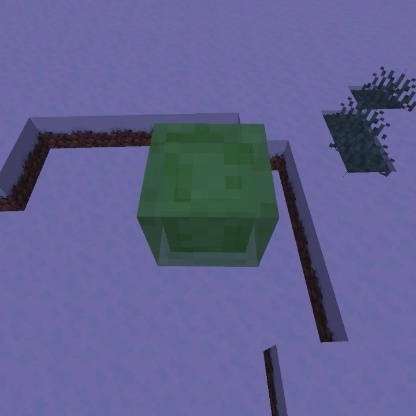slime: (132, 118, 284, 273)
